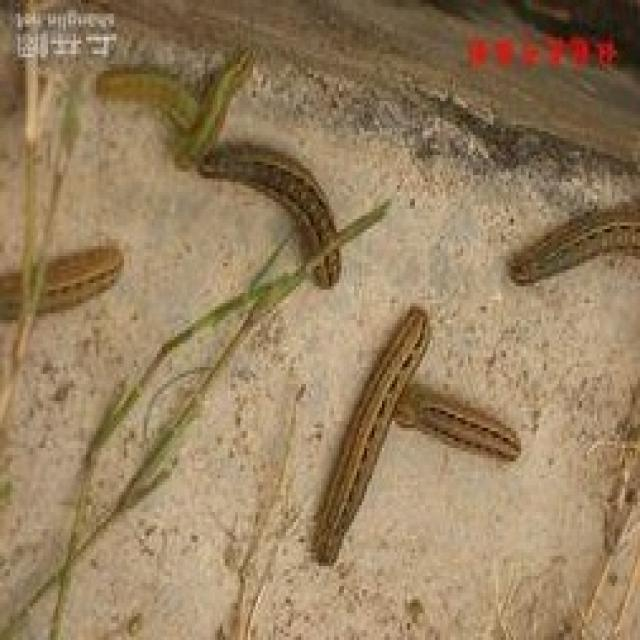army worm: (310, 303, 431, 582), (188, 141, 355, 299), (397, 388, 531, 476), (92, 58, 214, 146), (183, 50, 259, 181), (4, 252, 130, 323)
